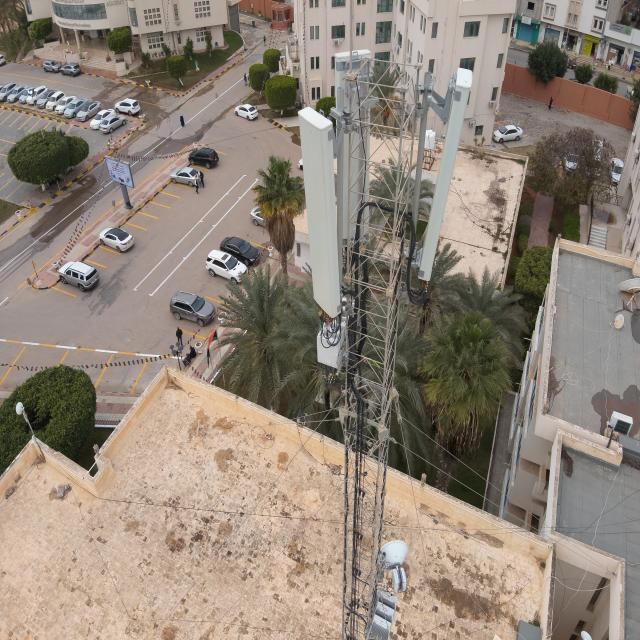antenna: (412, 60, 474, 302), (299, 102, 349, 323), (330, 48, 375, 248)
lighnig-rad: (349, 0, 353, 72)
microware-dish: (377, 532, 414, 596)
power-box: (364, 593, 398, 640)
radio-unit: (312, 298, 361, 372)
